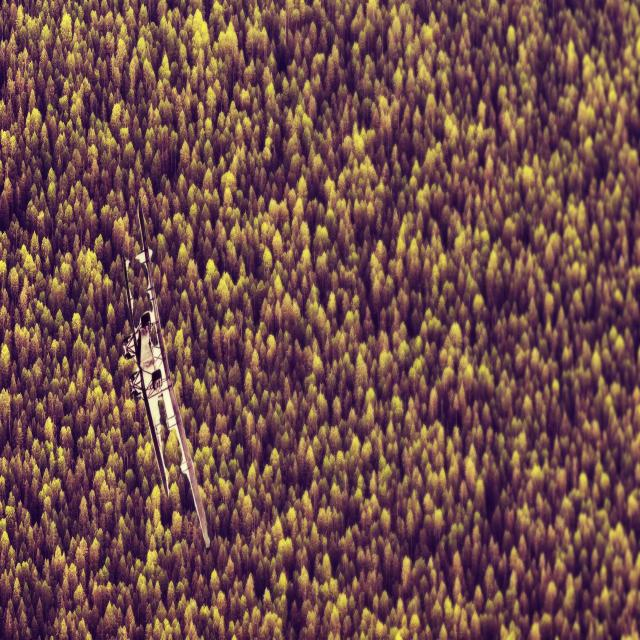airplane: (120, 197, 211, 549)
